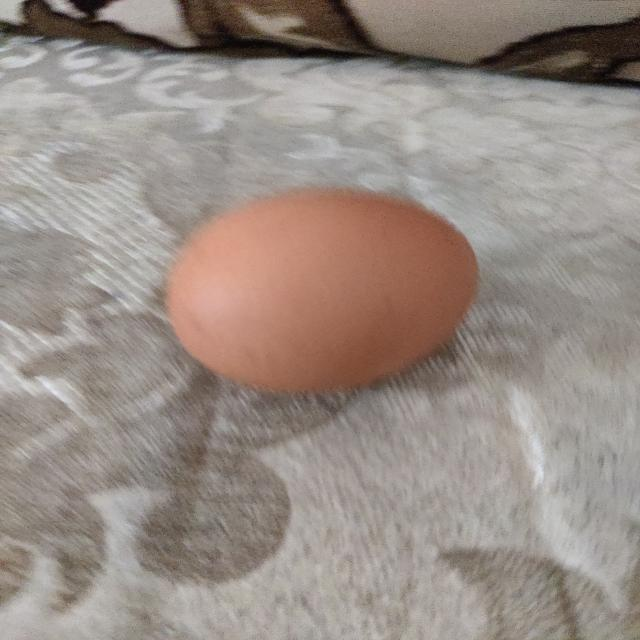Egg: (150, 186, 487, 398)
